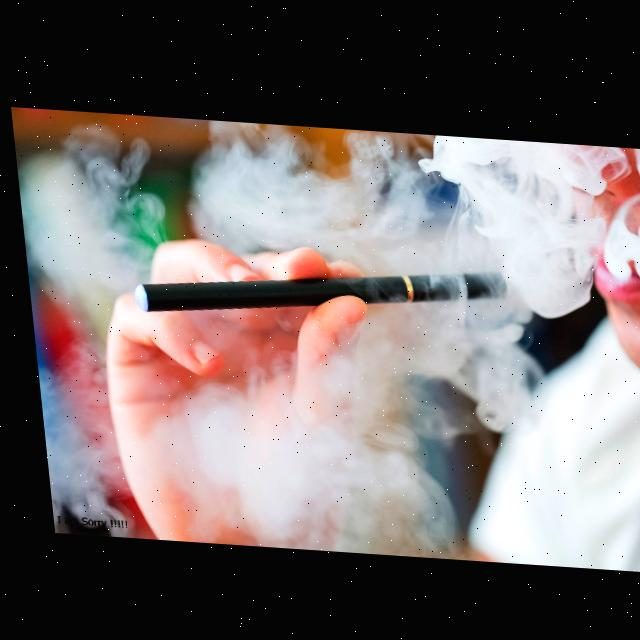vape: (125, 246, 507, 331)
